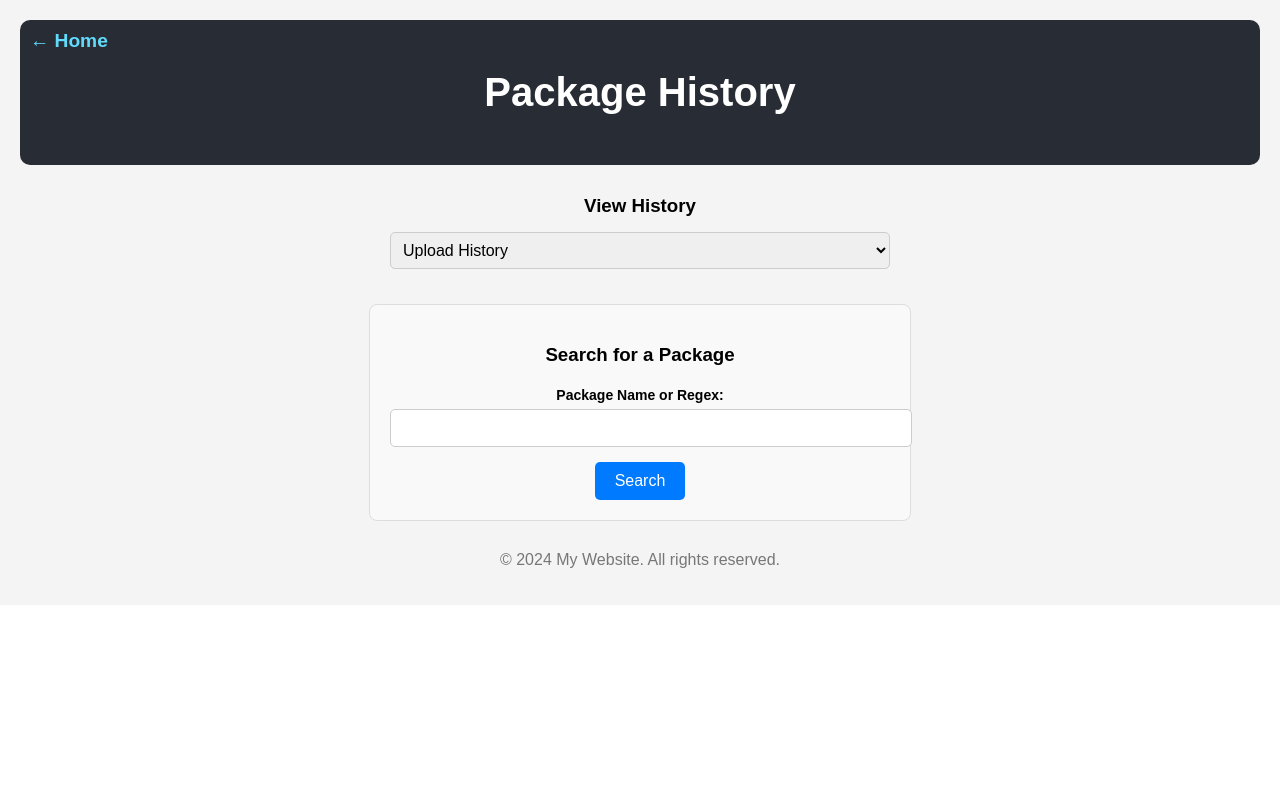
HistoryPage Component › handles package search successfully
This screenshot has width=1280, height=800.
Type "example-package" into the field at [651, 428], box x1=390 y1=409 x2=912 y2=447
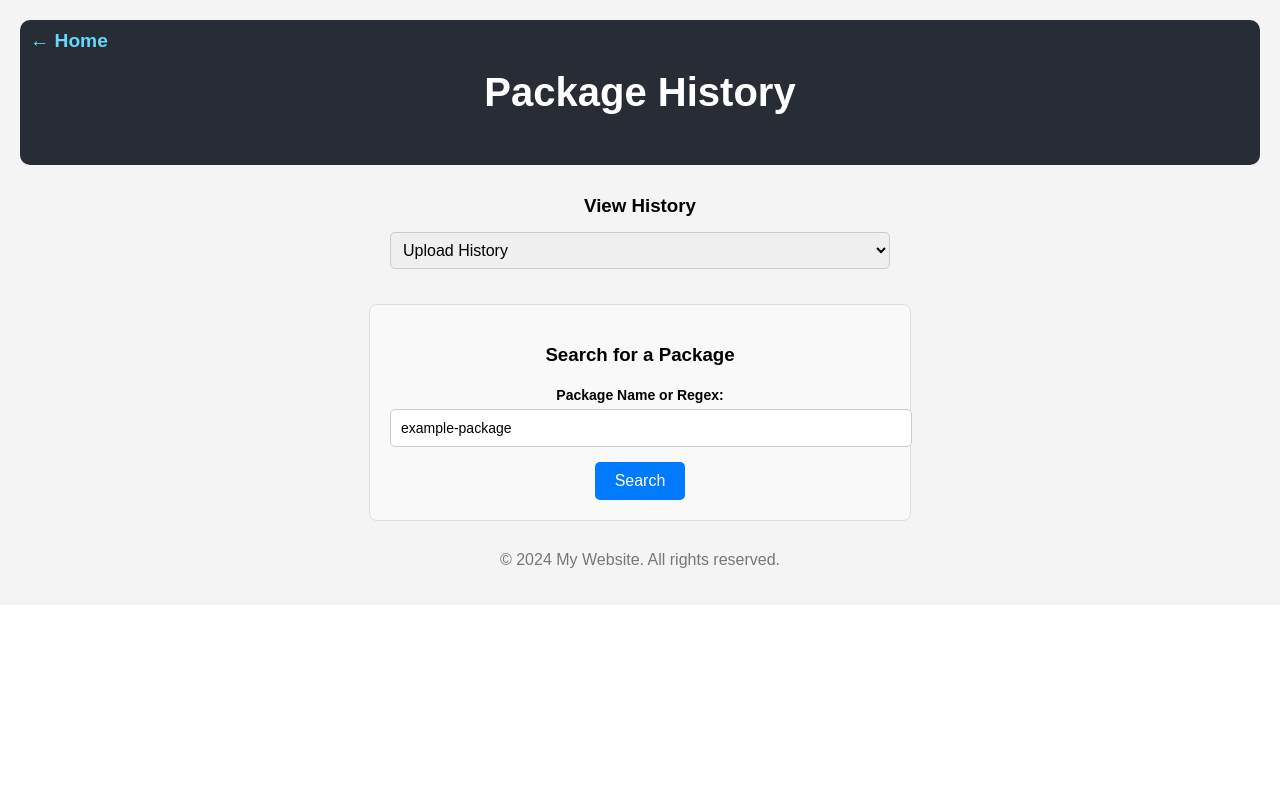
Click the button "Search" at [640, 481], box x1=595 y1=462 x2=685 y2=500
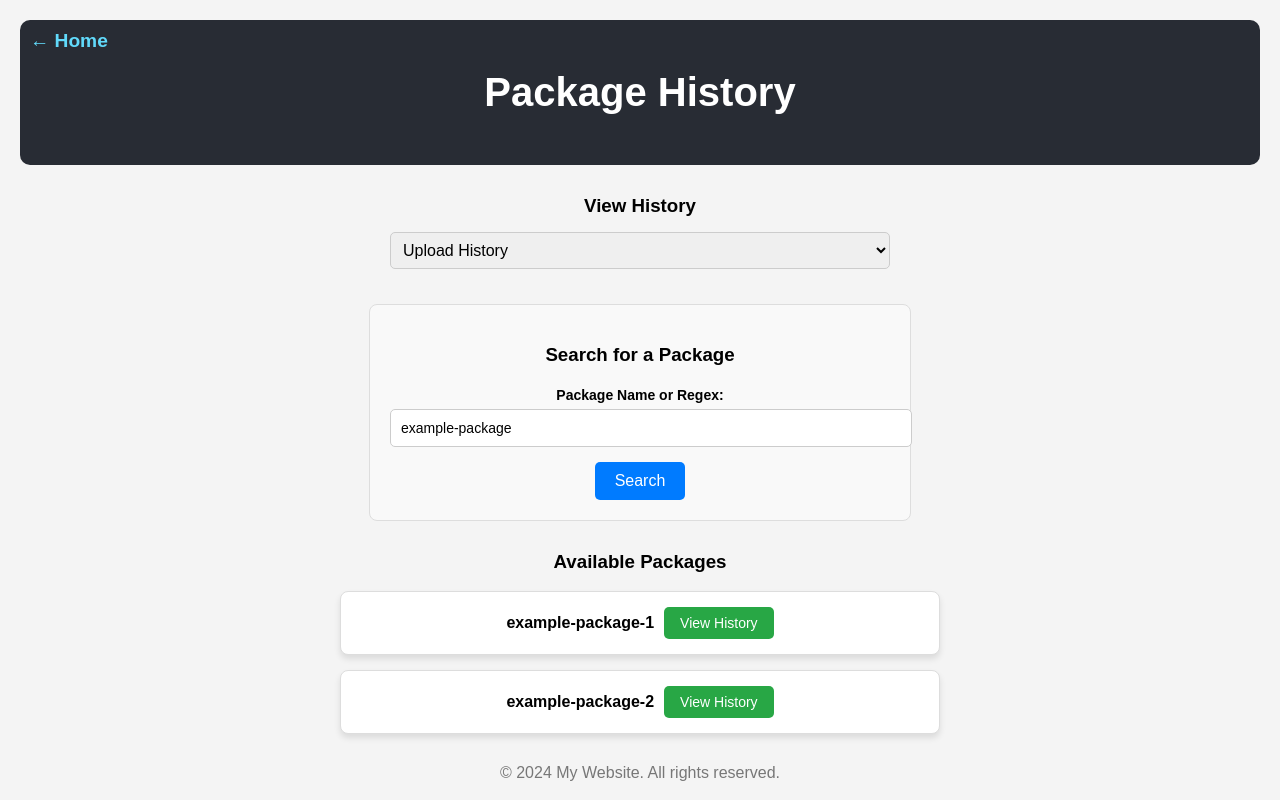
Check: the text "example-package-1" is shown, box x1=506 y1=614 x2=654 y2=631
Check: the text "example-package-2" is shown, box x1=506 y1=693 x2=654 y2=710
